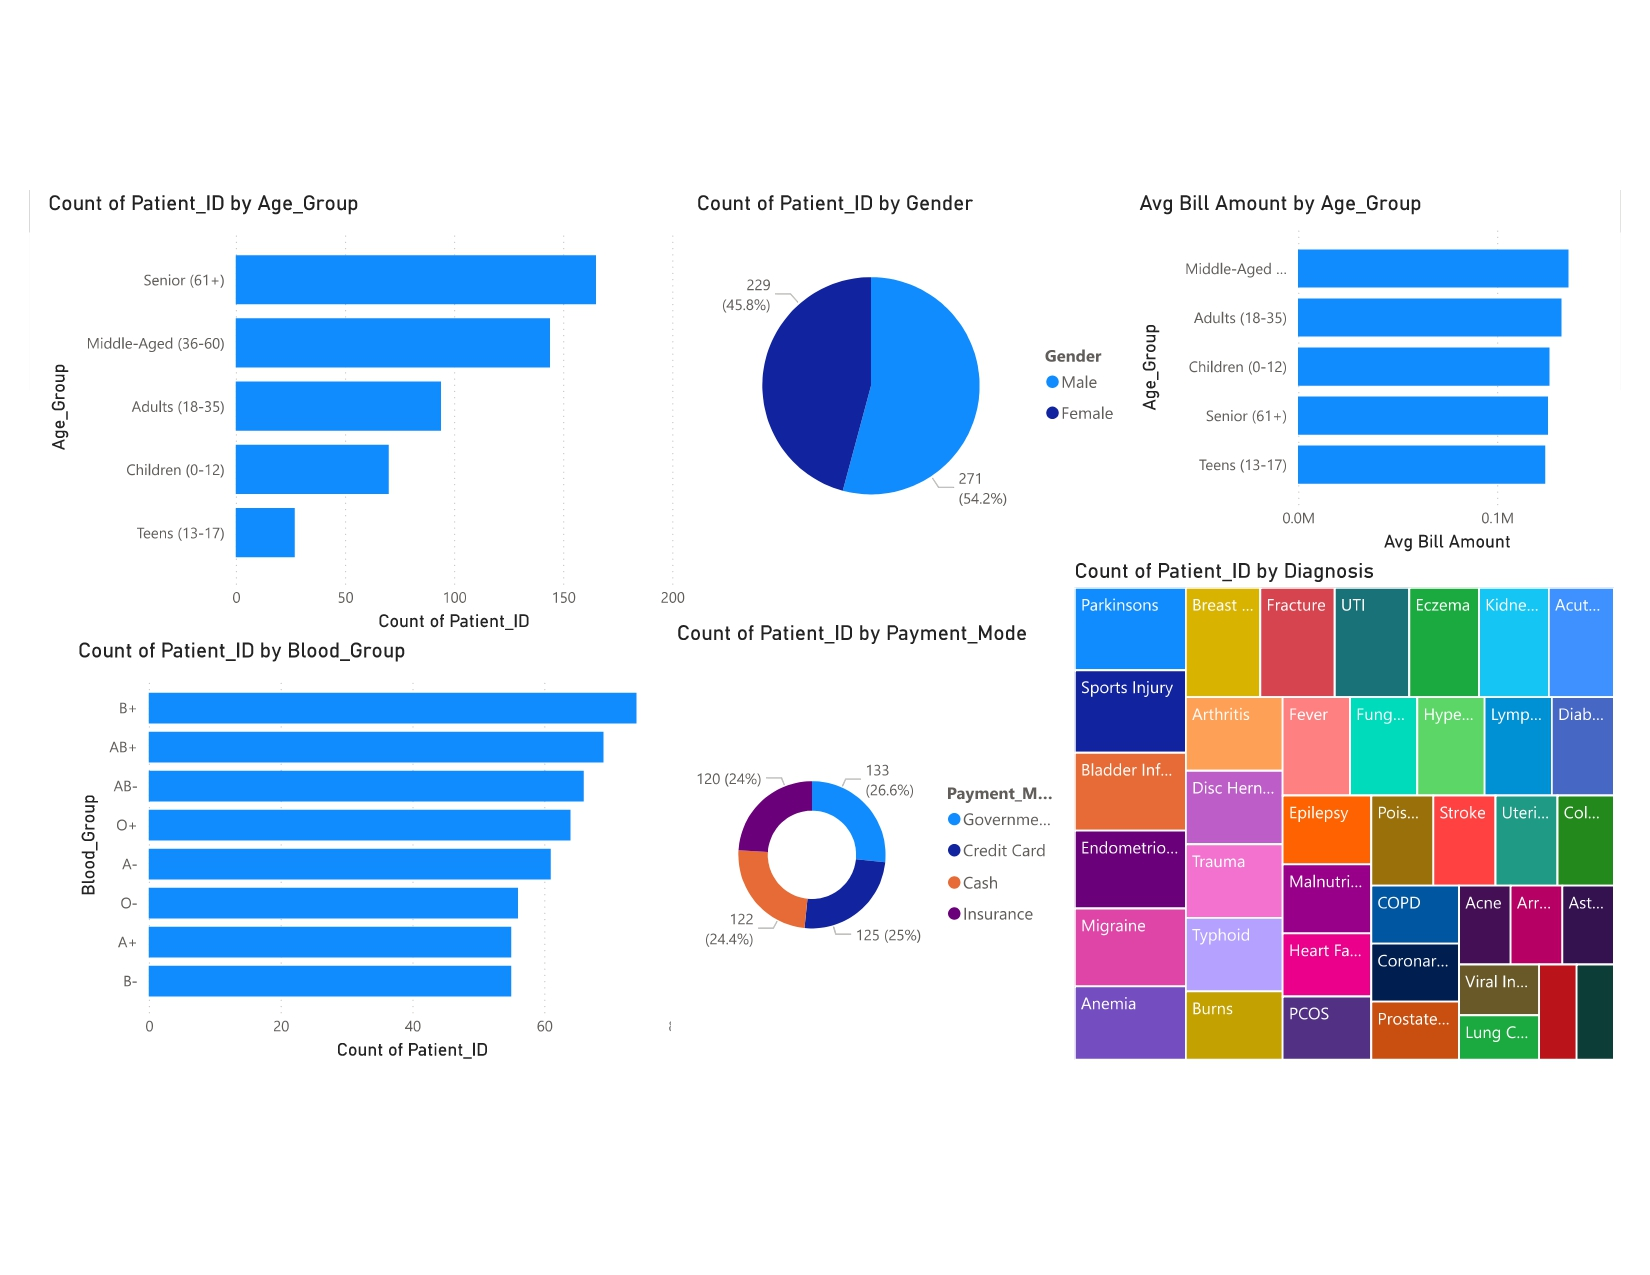

This screenshot's page, from the dashboard's own definition file:
{"tool":"powerbi","page":{"name":"Page 2","canvas":[1280,720],"ordinal":1},"visuals":[{"type":"clusteredBarChart","fields":{"Y":["CountNonNull(Patient_Data.Patient_ID)"],"Category":["Patient_Data.Age_Group"]},"box":[9.6,0,522.8,359.5],"z":0},{"type":"pieChart","fields":{"Category":["Patient_Data.Gender"],"Y":["CountNonNull(Patient_Data.Patient_ID)"]},"box":[532.4,0,355.4,296.4],"z":1000},{"type":"clusteredBarChart","fields":{"Category":["Patient_Data.Blood_Group"],"Y":["CountNonNull(Patient_Data.Patient_ID)"]},"box":[34.3,359.5,498.1,345.8],"z":2000},{"type":"donutChart","fields":{"Category":["Patient_Data.Payment_Mode"],"Y":["CountNonNull(Patient_Data.Patient_ID)"]},"box":[516,345.8,319.7,359.5],"z":3000},{"type":"clusteredBarChart","fields":{"Category":["Patient_Data.Age_Group"],"Y":["Age_Analysis.Avg Bill Amount"]},"box":[887.8,0,392.5,296.4],"z":4000},{"type":"treemap","fields":{"Group":["Patient_Data.Diagnosis"],"Values":["CountNonNull(Patient_Data.Patient_ID)"]},"box":[835.7,296.4,444.6,408.9],"z":5000}]}

Visuals, with their boxes on the page's 1280x720 design canvas (x1, y1, x2, y2). These are canvas units, not pixel positions in the 1650x1275 screenshot, which may show the page scaled, cropped or inside an application window:
clusteredBarChart - CountNonNull(Patient_Data.Patient_ID) x Patient_Data.Age_Group: <box>10,0,532,360</box>
pieChart - Patient_Data.Gender x CountNonNull(Patient_Data.Patient_ID): <box>532,0,888,296</box>
clusteredBarChart - Patient_Data.Blood_Group x CountNonNull(Patient_Data.Patient_ID): <box>34,360,532,705</box>
donutChart - Patient_Data.Payment_Mode x CountNonNull(Patient_Data.Patient_ID): <box>516,346,836,705</box>
clusteredBarChart - Patient_Data.Age_Group x Age_Analysis.Avg Bill Amount: <box>888,0,1280,296</box>
treemap - Patient_Data.Diagnosis x CountNonNull(Patient_Data.Patient_ID): <box>836,296,1280,705</box>
